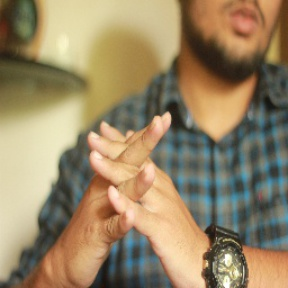W: (78, 98, 182, 260)
